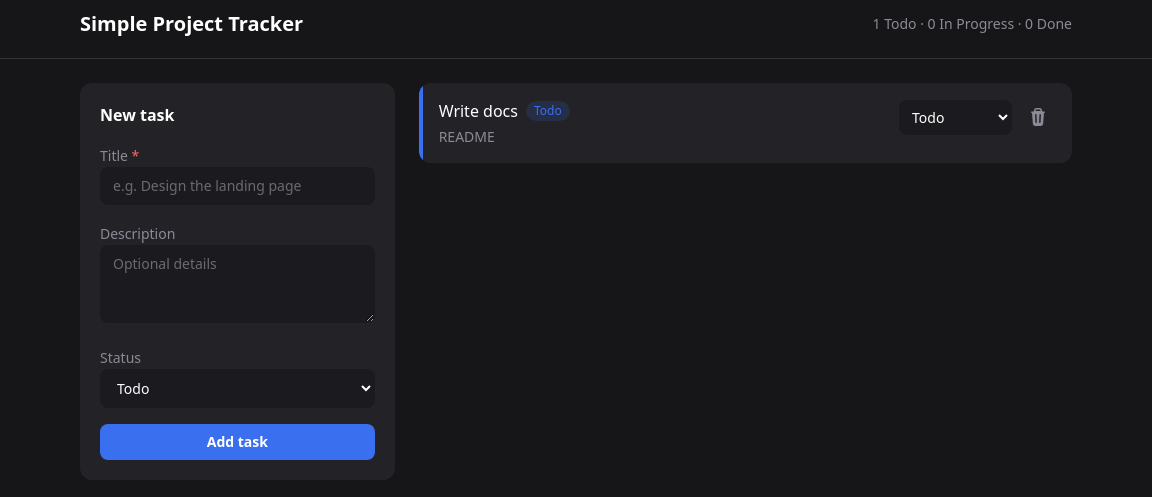
Scenario: updating and deleting › keeps the old status and shows an error if the update fails
Select "Done" in the dropdown named "Status for Write docs" at (956, 117), box x1=899 y1=100 x2=1012 y2=134
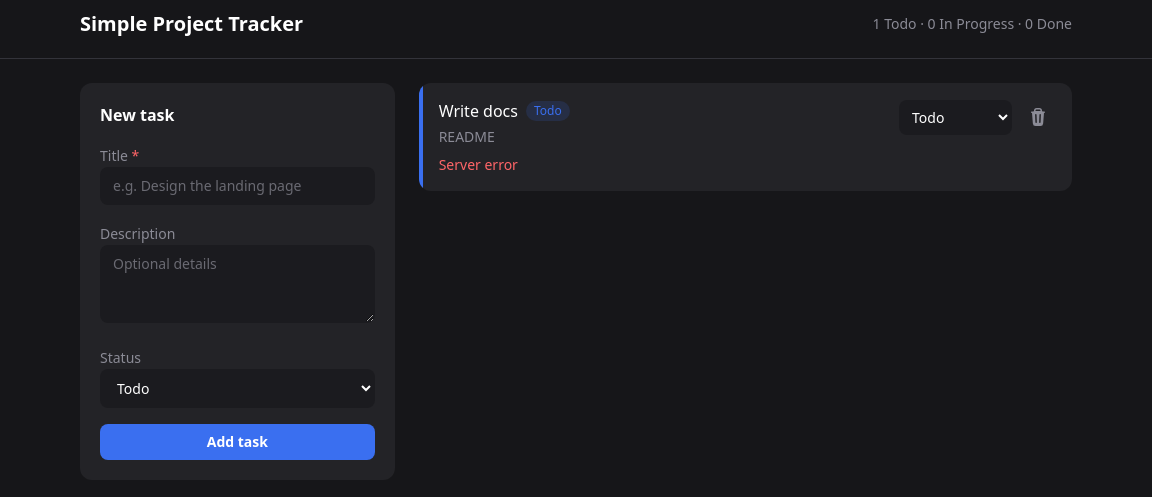
Now the message reads "Server error", box x1=439 y1=155 x2=518 y2=174
